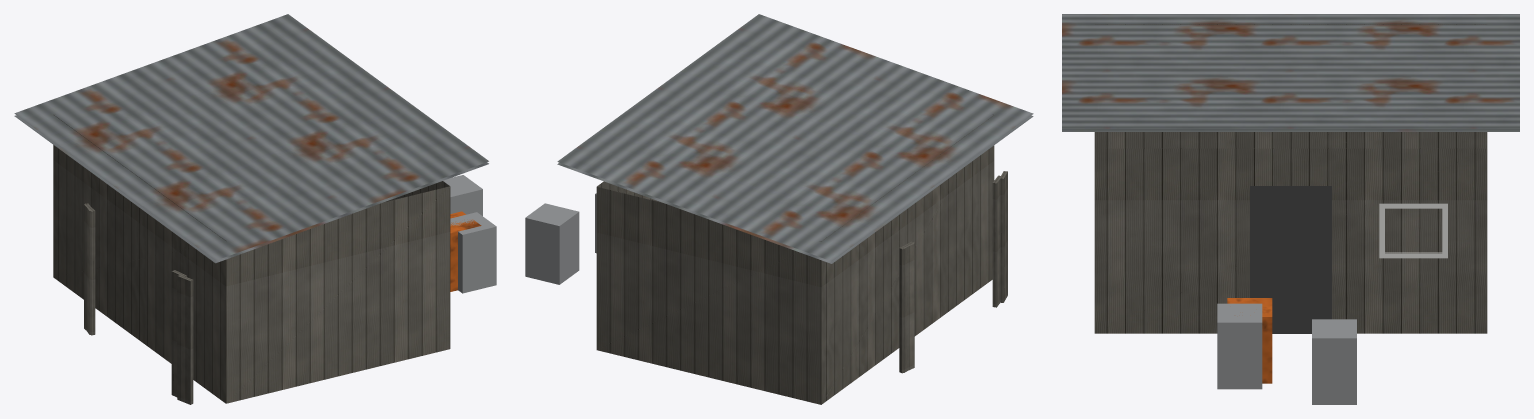
File: shack0.fbx
The picture shows the model from 3 angles, left to right: view 1: azimuth 30°, elevation 25°; view 2: azimuth 150°, elevation 25°; view 3: azimuth 270°, elevation 25°; orthographic projection. The views are drawn at different scales.
Parts seen in each view (by area): view 1: shack0; view 2: shack0; view 3: shack0.
Boxes of the visible parts, bbox=[...] form: shack0: bbox=[14, 14, 496, 404]; shack0: bbox=[525, 14, 1033, 404]; shack0: bbox=[1062, 14, 1519, 404].
Bounding box in the file's own units: 6.13 × 3 × 5.6.
Materials: 7 (4 with a texture image).
